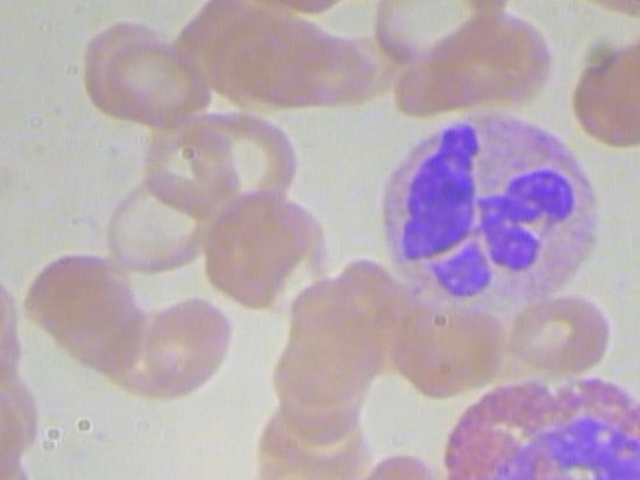RBC: (188, 180, 325, 318), (95, 167, 223, 278), (381, 296, 515, 401), (129, 290, 246, 397), (102, 31, 223, 126), (362, 0, 508, 78), (502, 287, 625, 376)
WBC: (363, 104, 610, 310), (430, 377, 640, 480)
